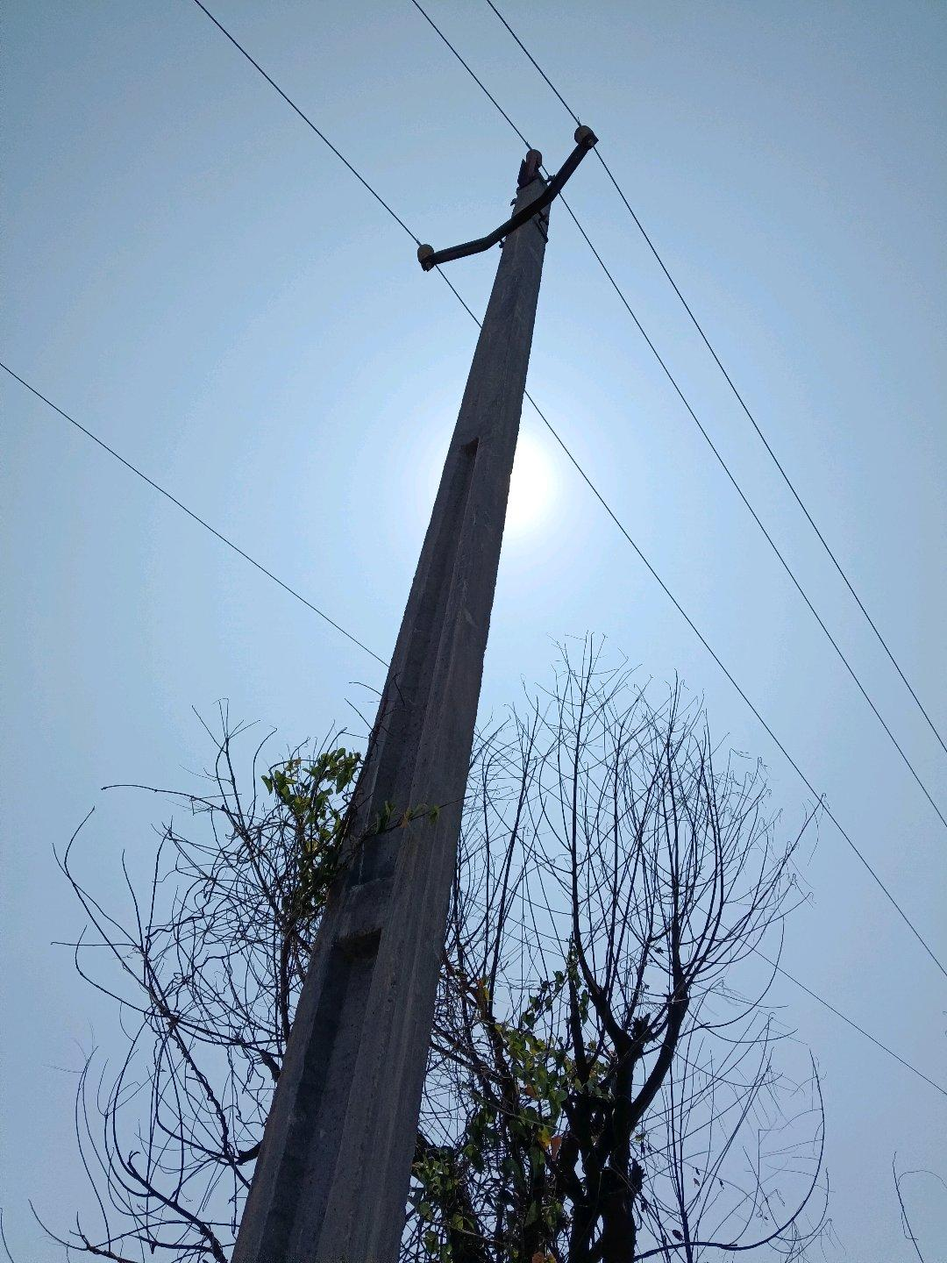{"0" "insulator", "1" "pole", "2" "crossarm", "3" "conductor", "4" "street_: (233, 129, 595, 1262)
